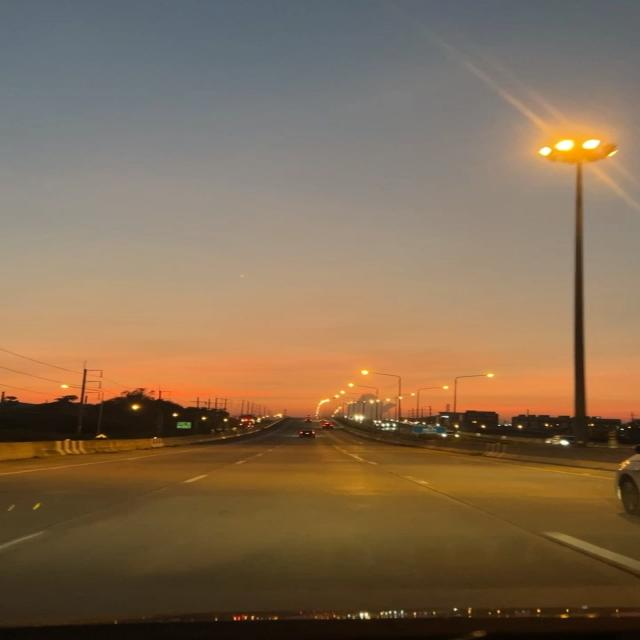Poth-hole: (52, 465, 540, 564)
